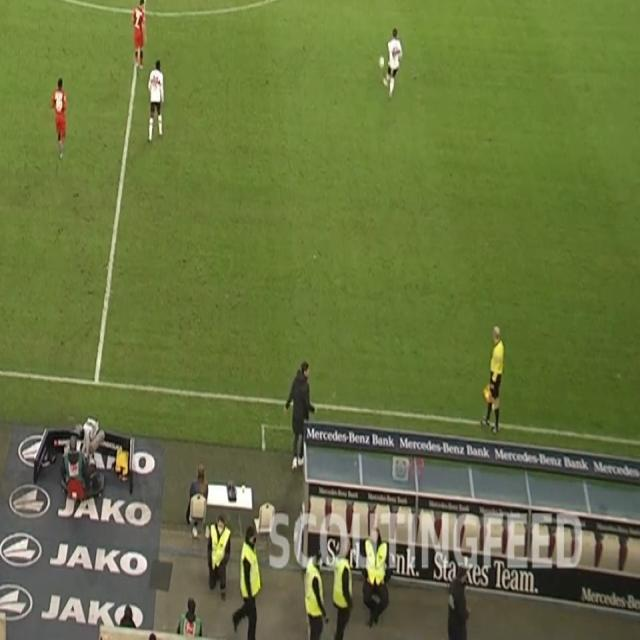ball: (378, 54, 386, 70)
